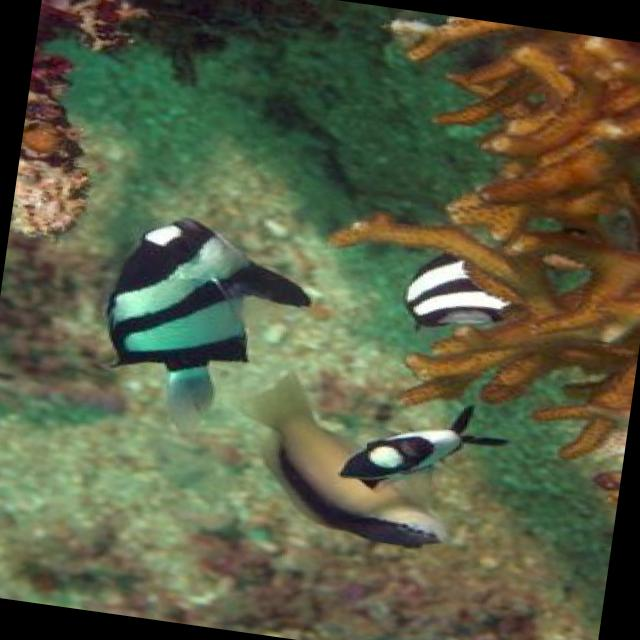ThreeStripedDamselfish: (106, 216, 313, 426), (340, 405, 512, 489)
